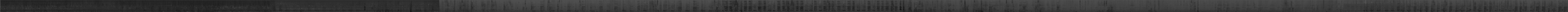Moan: (748, 0, 752, 12), (777, 0, 781, 12), (725, 0, 728, 12), (729, 0, 732, 12), (744, 0, 747, 12), (763, 0, 766, 12), (796, 0, 799, 12), (800, 0, 803, 12), (823, 0, 826, 12), (891, 0, 894, 12)
